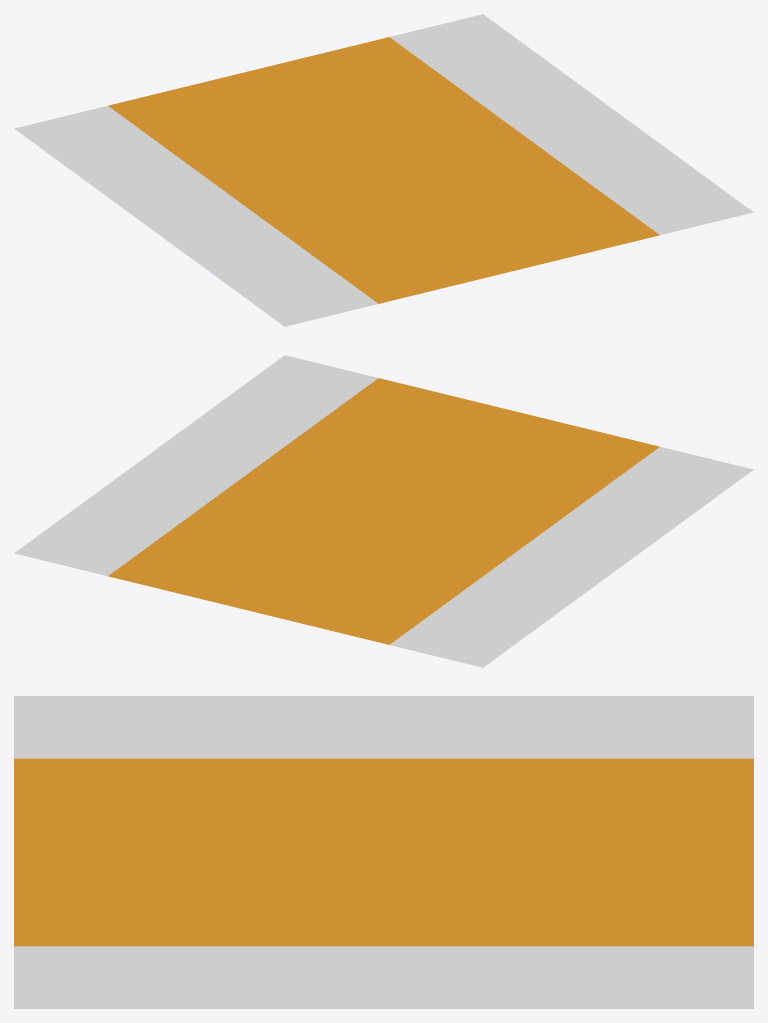
The model's file is Ground_Gang.fbx.
3 renders of one model, top to bottom at view 1: azimuth 30°, elevation 25°; view 2: azimuth 150°, elevation 25°; view 3: azimuth 270°, elevation 25°, orthographic. The views are drawn at different scales.
Visible parts, largest first — view 1: Plane.000; view 2: Plane.000; view 3: Plane.000.
Part boxes in pixels (left/top/right/bottom): Plane.000: left=14, top=14, right=753, bottom=326; Plane.000: left=14, top=355, right=753, bottom=667; Plane.000: left=14, top=696, right=753, bottom=1008.
Size of the model in its own units: 200 by 3.26e-05 by 200.
